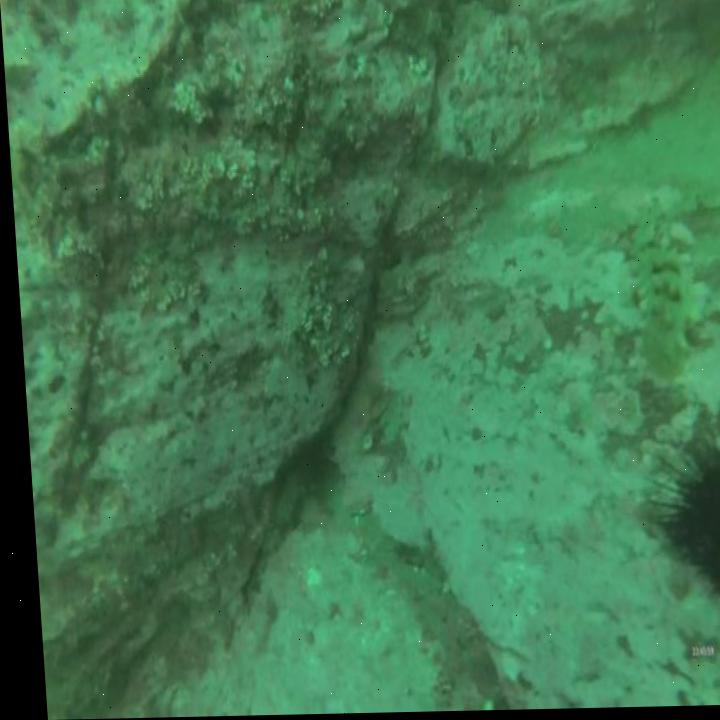echinus: (634, 423, 720, 647)
holothurian: (630, 227, 691, 377)
